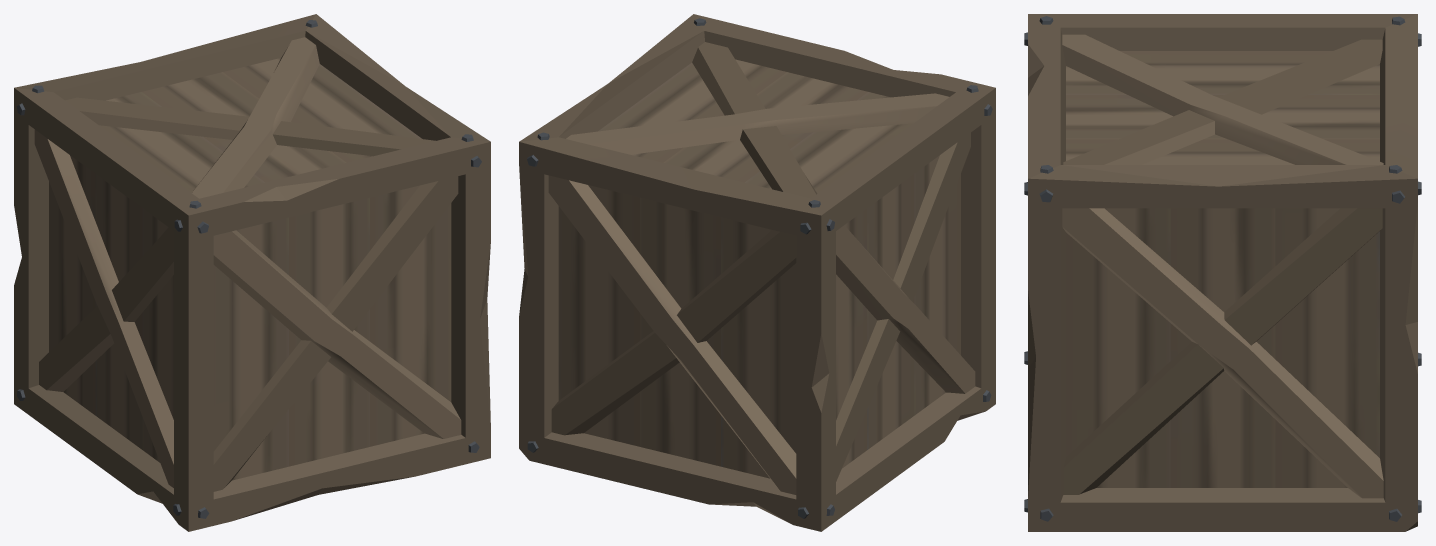
Rendered from SM_Prop_Crate_Cube_02.fbx.
The picture shows the model from 3 angles, left to right: view 1: azimuth 30°, elevation 25°; view 2: azimuth 150°, elevation 25°; view 3: azimuth 270°, elevation 25°; orthographic projection. The views are drawn at different scales.
Visible parts, largest first — view 1: SM_Prop_Crate_Cube_02; view 2: SM_Prop_Crate_Cube_02; view 3: SM_Prop_Crate_Cube_02.
Part boxes in pixels (x1=…): SM_Prop_Crate_Cube_02: x1=14, y1=14, x2=490, y2=531; SM_Prop_Crate_Cube_02: x1=519, y1=14, x2=995, y2=531; SM_Prop_Crate_Cube_02: x1=1024, y1=14, x2=1421, y2=531.
Bounding box in the file's own units: 1.85 × 1.85 × 1.85.
Materials: 1 (1 with a texture image).
